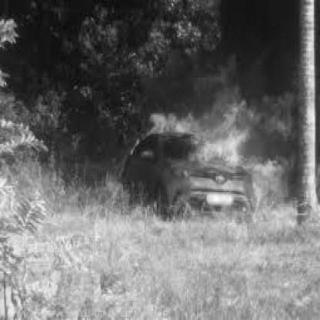Fire: (137, 62, 291, 202)
